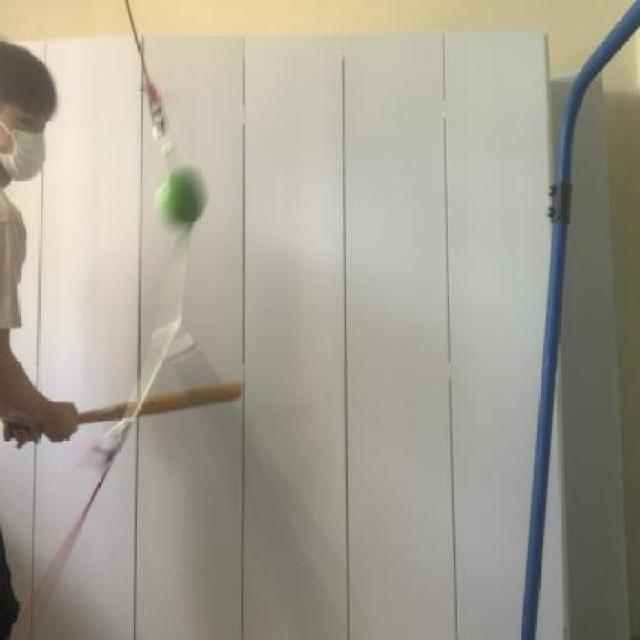baseball: (141, 150, 234, 244)
